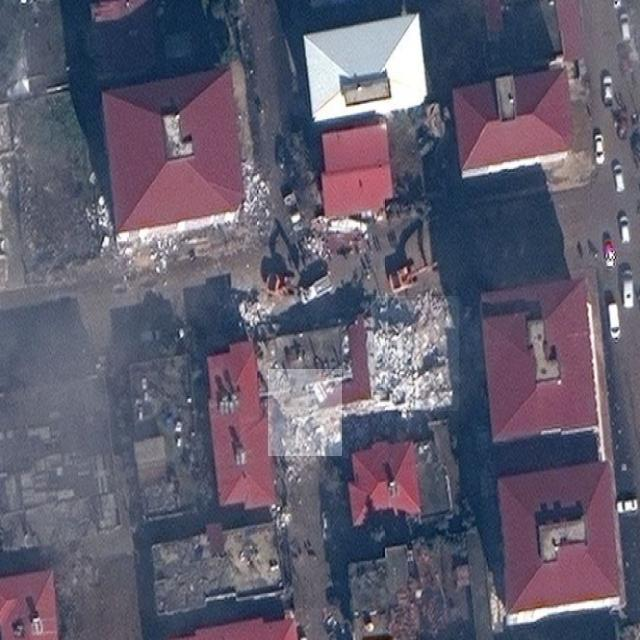Rubble: (371, 296, 459, 411), (268, 369, 342, 456)
